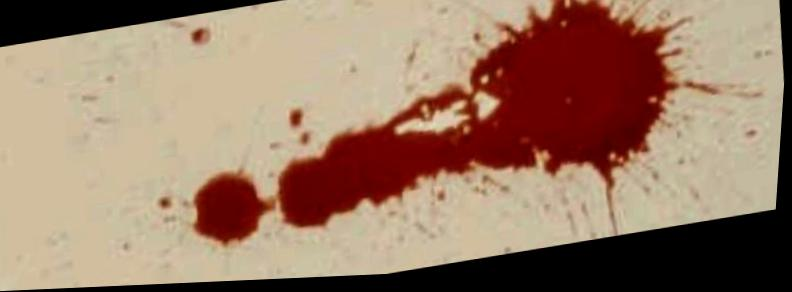Fire: (280, 0, 682, 230), (194, 172, 279, 246)
